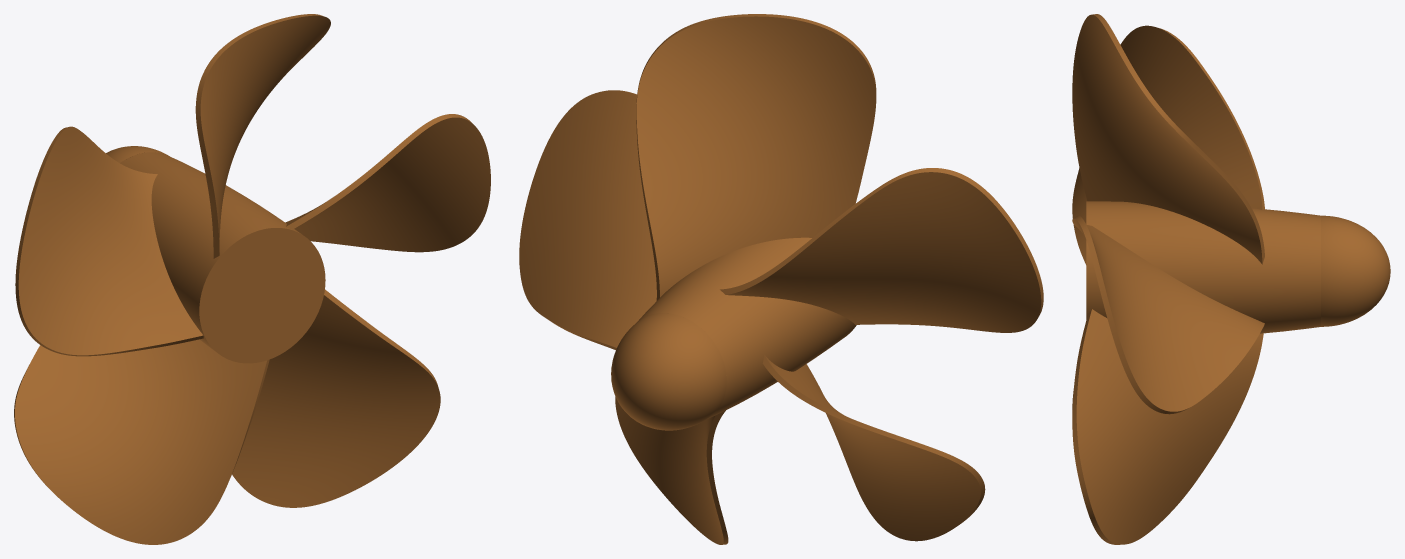
File: mono_ropeller.glb
The picture shows the model from 3 angles, left to right: view 1: azimuth 30°, elevation 25°; view 2: azimuth 150°, elevation 25°; view 3: azimuth 270°, elevation 25°; orthographic projection. The views are drawn at different scales.
Visible parts, largest first — view 1: 预设值 (×6); view 2: 预设值 (×7); view 3: 预设值 (×6).
Boxes of the visible parts, x1=… form: 预设值 (×6): x1=14, y1=14, x2=490, y2=544; 预设值 (×7): x1=519, y1=14, x2=1043, y2=544; 预设值 (×6): x1=1072, y1=14, x2=1390, y2=544.
Size of the model in its own units: 0.6685 by 0.665 by 0.3958.
